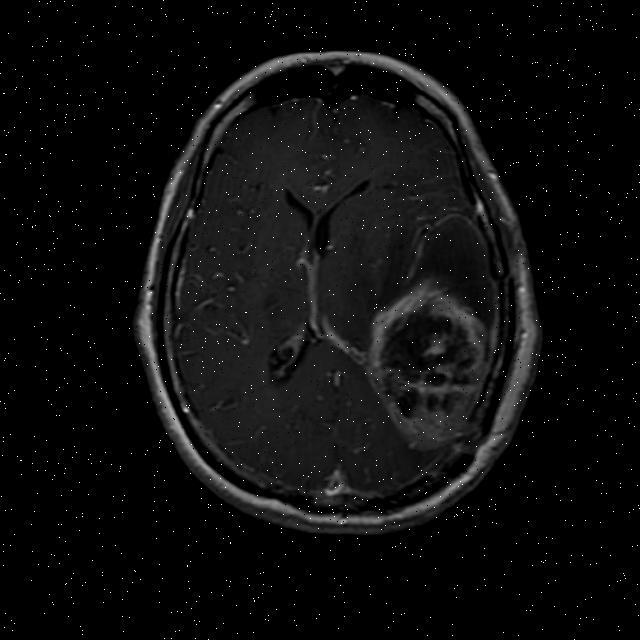Glioma: (353, 265, 500, 462)
